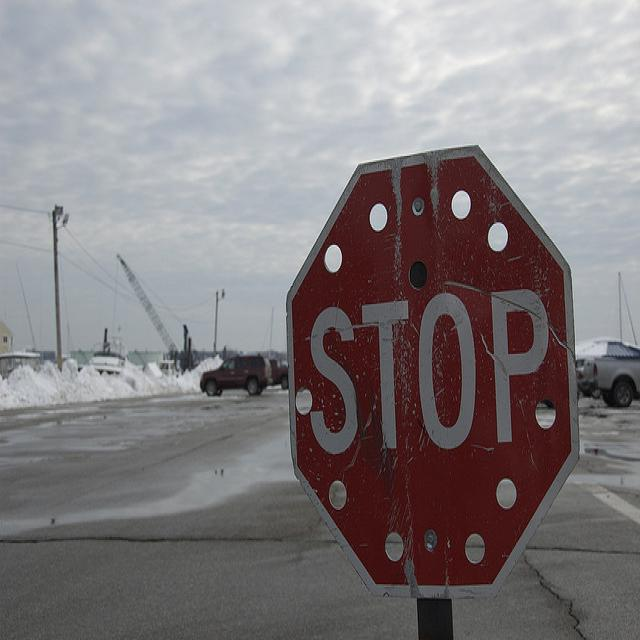Vehicle: (200, 356, 272, 396), (576, 334, 620, 399), (593, 357, 640, 408), (269, 359, 289, 389)
